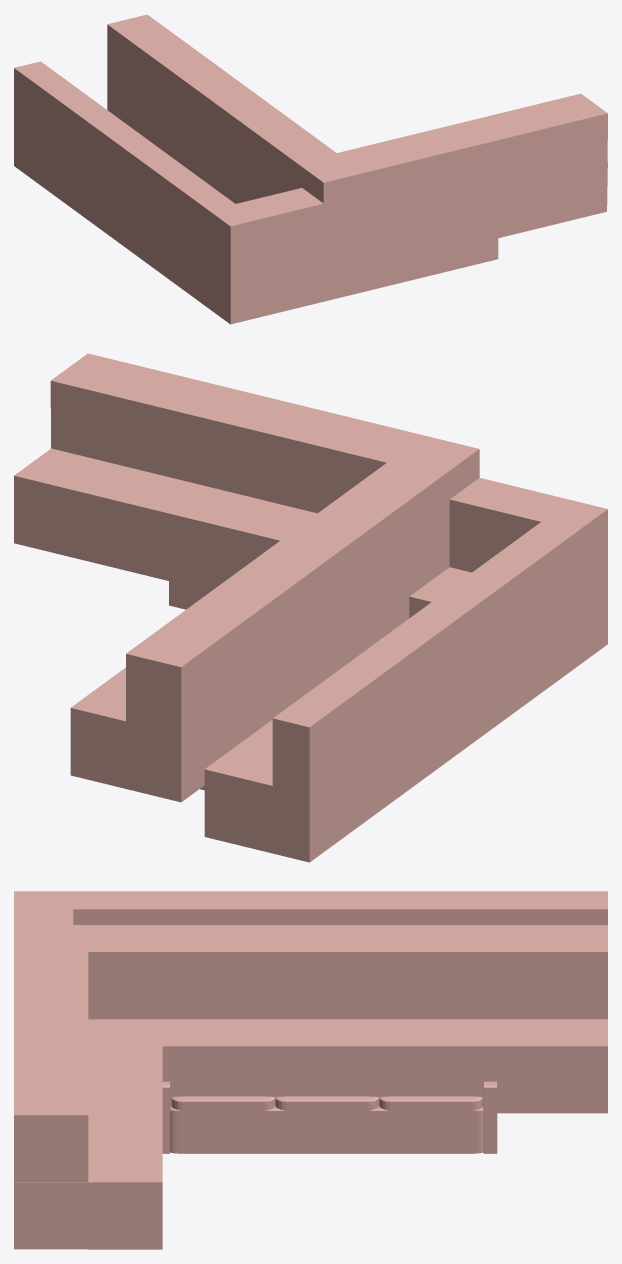
File: sofa.fbx
The picture shows the model from 3 angles, top to bottom: view 1: azimuth 30°, elevation 25°; view 2: azimuth 150°, elevation 25°; view 3: azimuth 270°, elevation 25°; orthographic projection. The views are drawn at different scales.
Parts seen in each view (by area): view 1: Cube, sofa; view 2: Cube, sofa; view 3: Cube, sofa, baseSofa, assentoSofa, costaSofa.002, costaSofa.001.
Part boxes in pixels (x1,y1,x2,y2): Cube: (107,14,607,280); sofa: (14,61,498,324); Cube: (14,353,479,802); sofa: (169,477,607,862); Cube: (14,925,607,1249); sofa: (14,891,607,924); baseSofa: (170,1106,483,1153); assentoSofa: (171,1096,482,1111); costaSofa.002: (483,1081,497,1153); costaSofa.001: (162,1081,170,1153).
Bounding box in the file's own units: 1409 × 447 × 1400.
